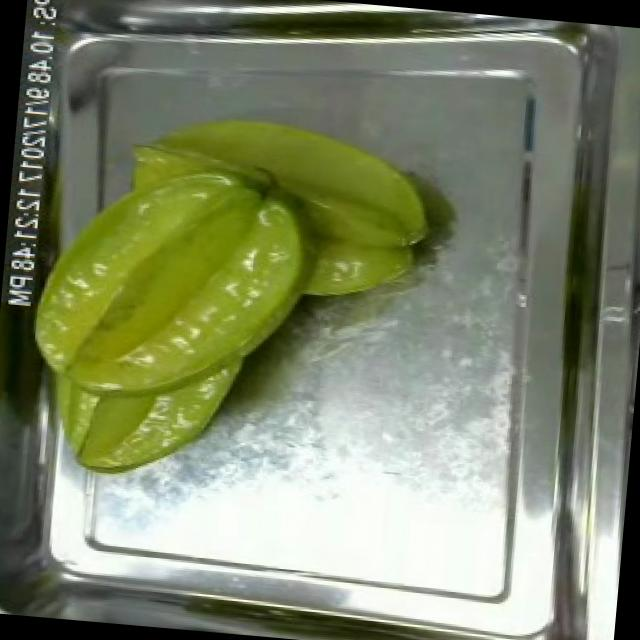fruit: (3, 126, 332, 501)
